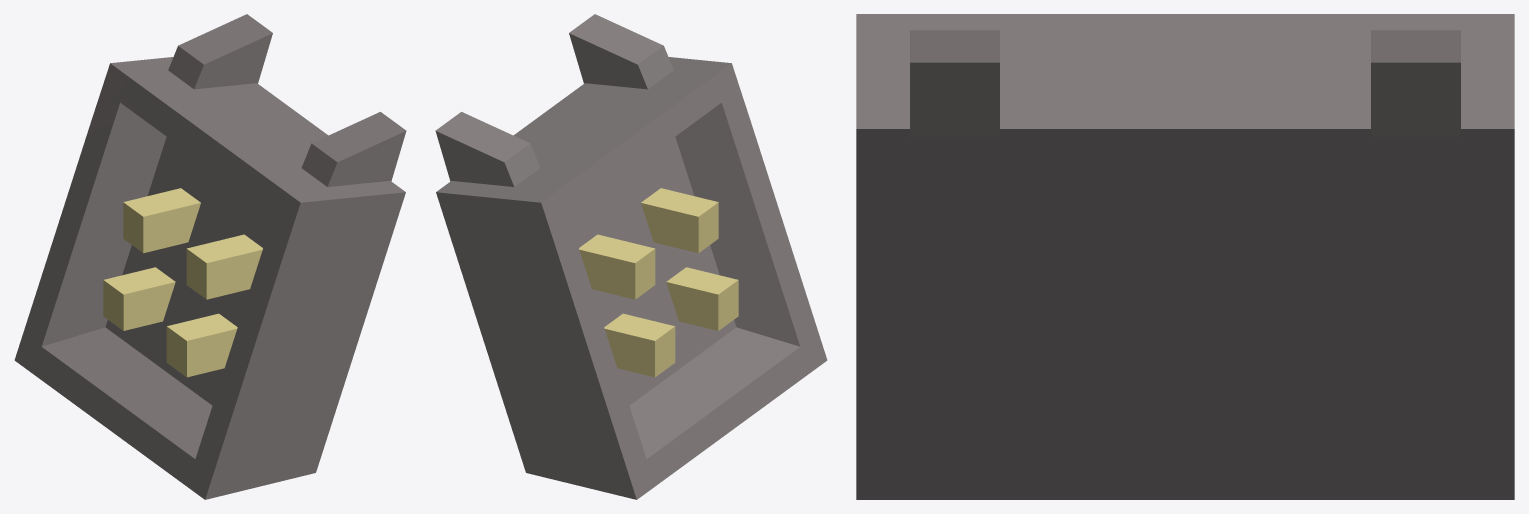
Rendered from SM_BreakerBox4_001.fbx.
The picture shows the model from 3 angles, left to right: view 1: azimuth 30°, elevation 25°; view 2: azimuth 150°, elevation 25°; view 3: azimuth 270°, elevation 25°; orthographic projection. The views are drawn at different scales.
Parts seen in each view (by area): view 1: Breaker_Box4; view 2: Breaker_Box4; view 3: Breaker_Box4.
Part boxes in pixels (x1,y1,x2,y2): Breaker_Box4: (14, 14, 406, 499); Breaker_Box4: (435, 14, 827, 499); Breaker_Box4: (856, 14, 1514, 499).
Size of the model in its own units: 35.6 by 47.79 by 54.16.
